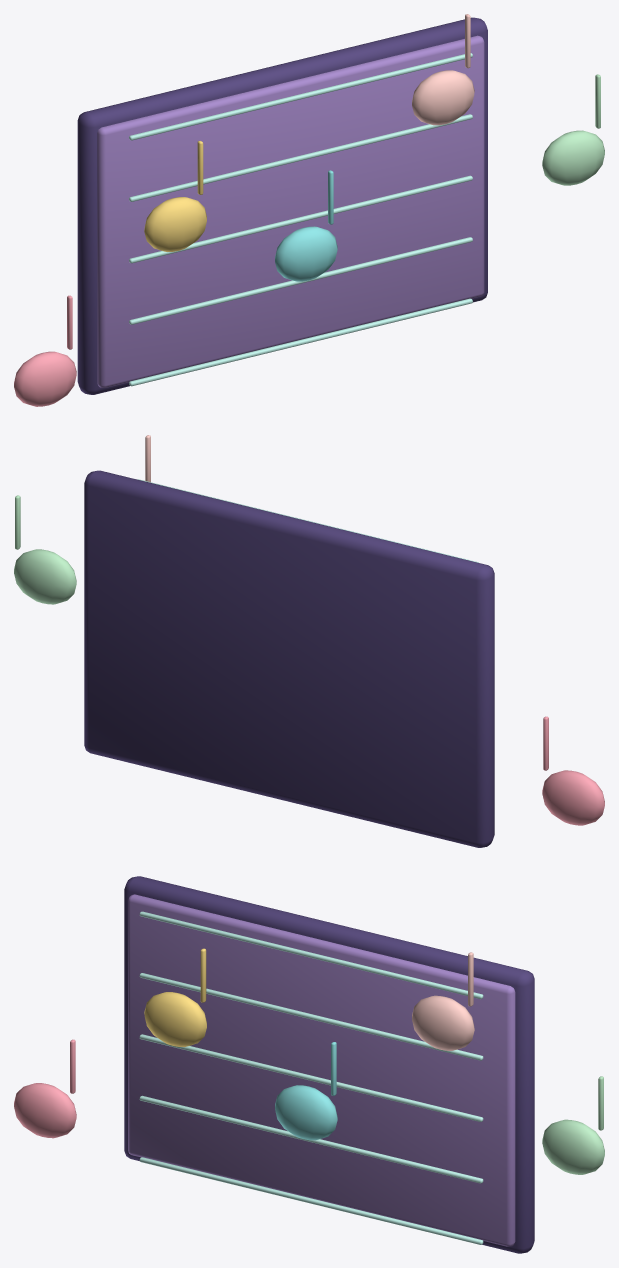
File: music_wall_panel.glb
The picture shows the model from 3 angles, top to bottom: view 1: azimuth 30°, elevation 25°; view 2: azimuth 150°, elevation 25°; view 3: azimuth 330°, elevation 25°; orthographic projection.
Parts seen in each view (by area): view 1: Panel, FrameInk, NoteHead_0, NoteHead_2, NoteHead_3, NoteHead_4, NoteHead_1, Staff_0, Staff_4, Staff_1, Staff_3, Staff_2; view 2: FrameInk, NoteHead_0, NoteHead_4; view 3: Panel, FrameInk, NoteHead_2, NoteHead_0, NoteHead_4, NoteHead_1, NoteHead_3, Staff_0, Staff_4, Staff_1, Staff_3, Staff_2.
Part boxes in pixels (x1,y1,x2,y2): Panel: (97, 35, 484, 387); FrameInk: (77, 17, 487, 394); NoteHead_0: (14, 351, 76, 406); NoteHead_2: (275, 226, 337, 281); NoteHead_3: (412, 70, 474, 125); NoteHead_4: (542, 130, 604, 185); NoteHead_1: (144, 197, 206, 251); Staff_0: (129, 298, 472, 386); Staff_4: (129, 53, 472, 140); Staff_1: (129, 237, 472, 324); Staff_3: (129, 114, 472, 201); Staff_2: (129, 175, 472, 263); FrameInk: (84, 470, 494, 847); NoteHead_0: (542, 770, 604, 825); NoteHead_4: (14, 549, 76, 604); Panel: (128, 894, 515, 1246); FrameInk: (124, 876, 534, 1253); NoteHead_2: (275, 1085, 337, 1140); NoteHead_0: (14, 1083, 76, 1138); NoteHead_4: (542, 1119, 604, 1174); NoteHead_1: (144, 992, 206, 1047); NoteHead_3: (412, 995, 474, 1050); Staff_0: (139, 1157, 483, 1244); Staff_4: (139, 911, 483, 999); Staff_1: (139, 1095, 483, 1183); Staff_3: (139, 973, 483, 1060); Staff_2: (139, 1034, 483, 1121).
Size of the model in its own units: 9.06 by 4.51 by 1.02.
